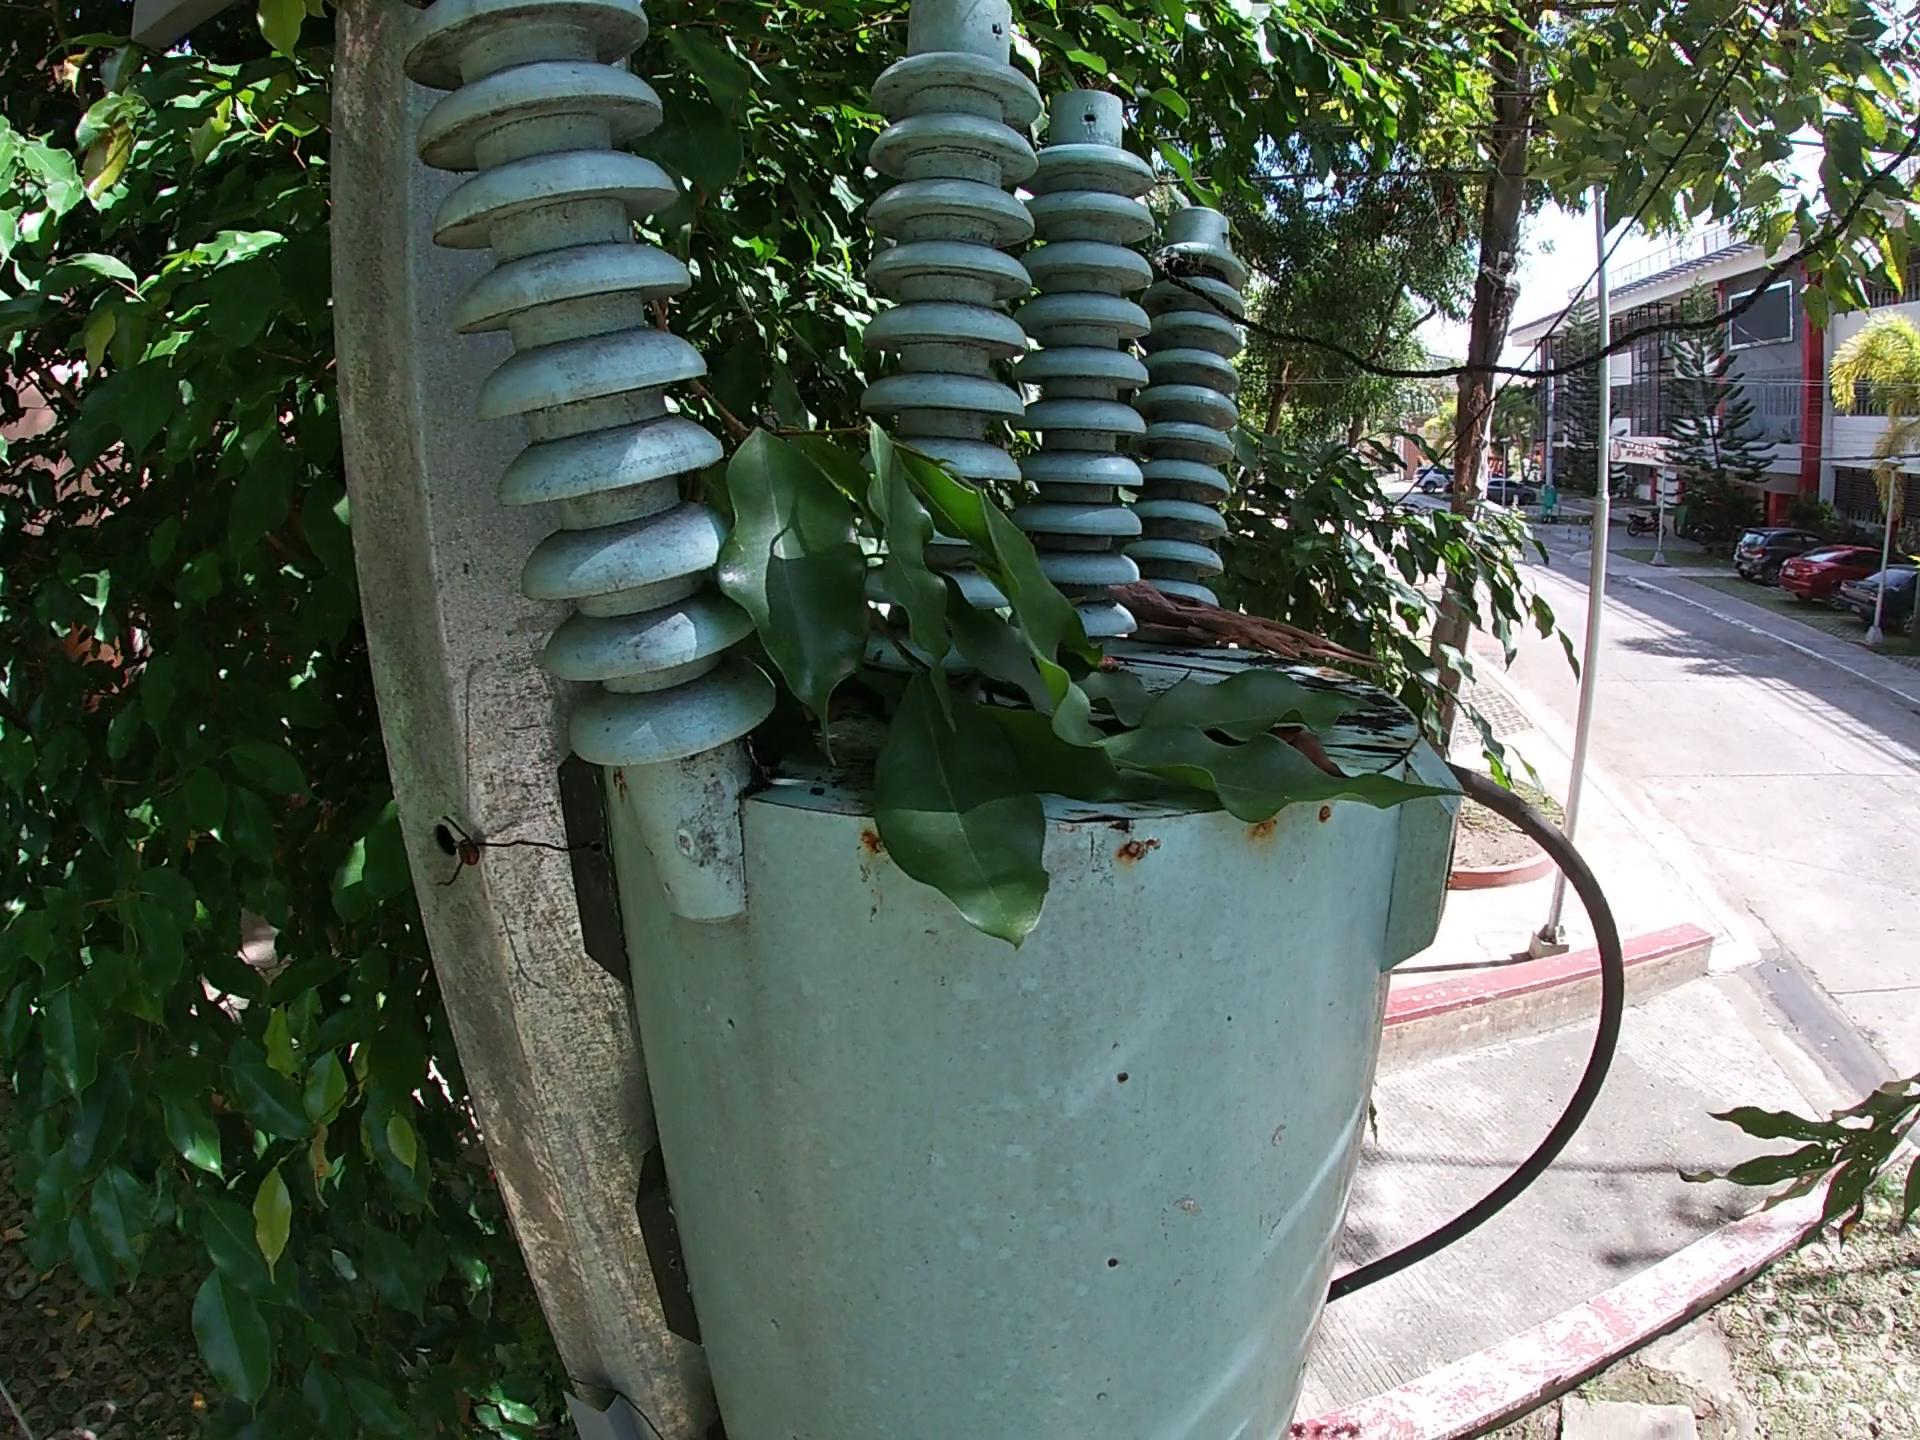branch with leaves: (605, 340, 1479, 954)
mahogany fruit: (1229, 687, 1359, 777)
tree branch: (1113, 567, 1426, 682), (1098, 650, 1261, 681)
